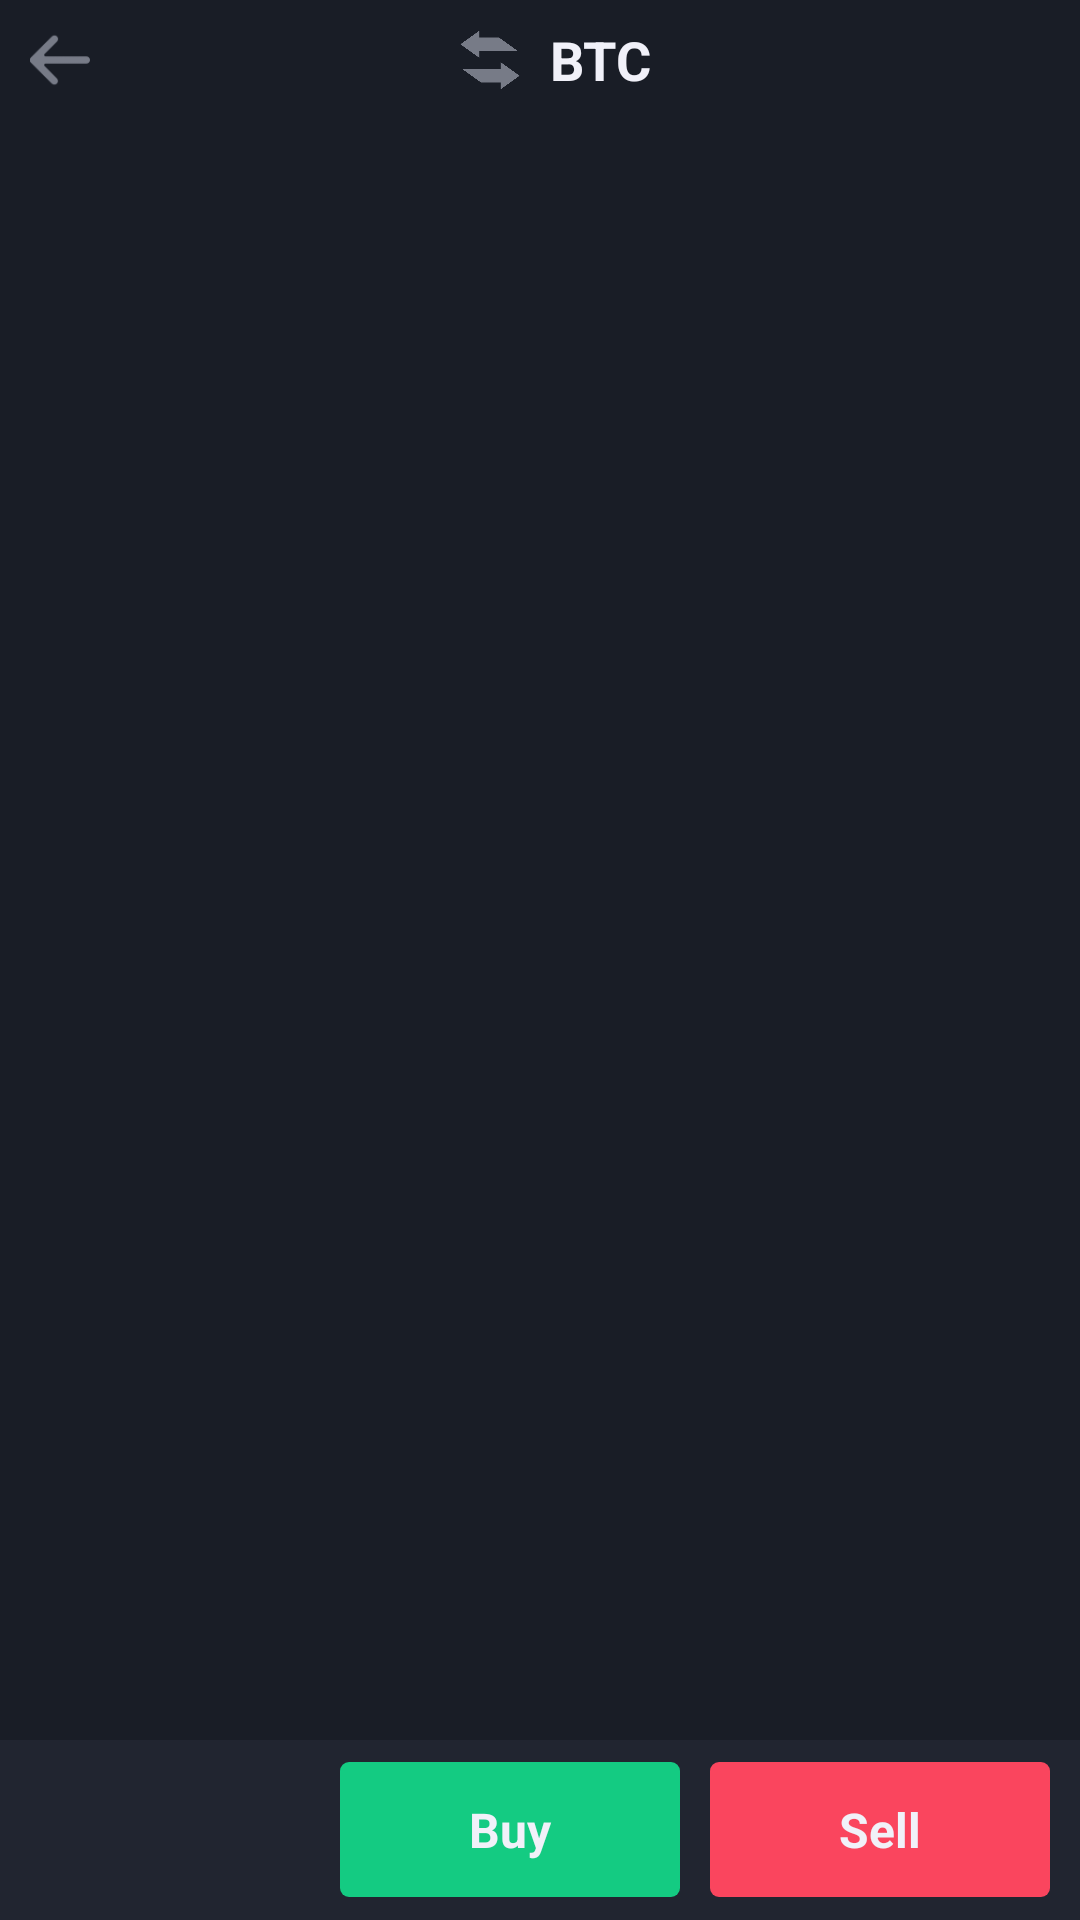

Point at icon controls on the screen. Image size 1080x1920, points as (x,y).
back: (60,60)
